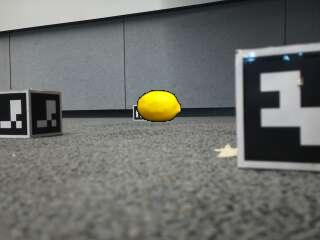lemon: (138, 91, 180, 122)
